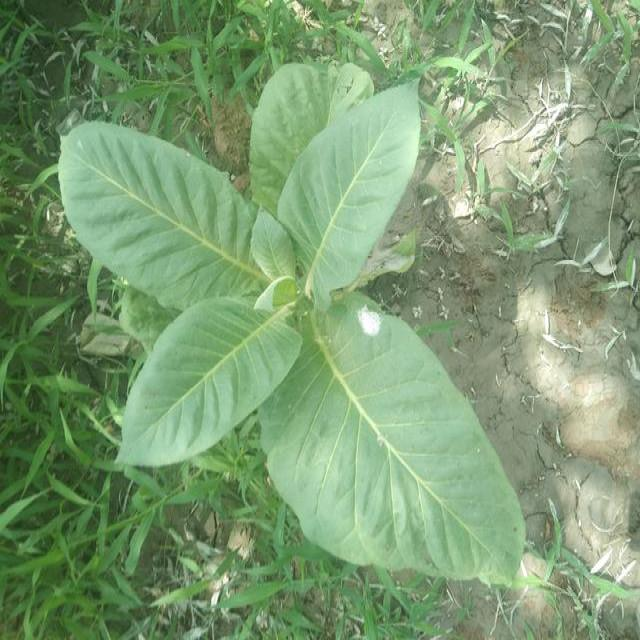crop: (66, 59, 528, 583)
